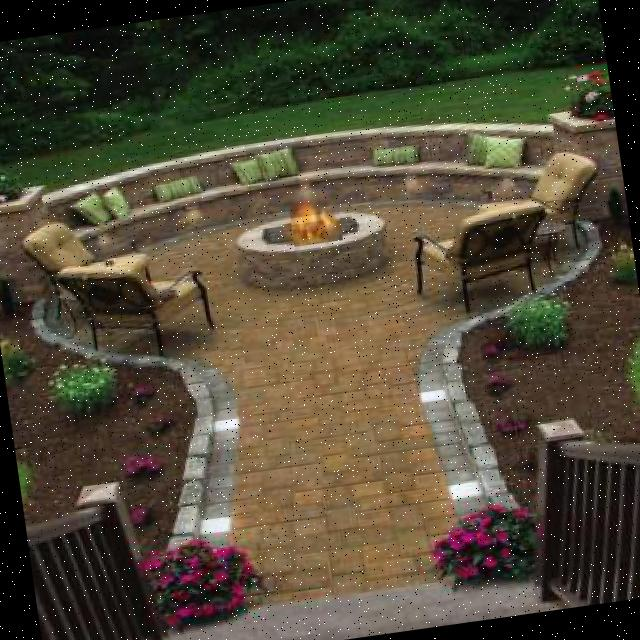fire: (288, 190, 344, 247)
